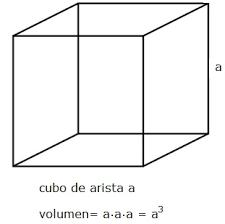cubos: (8, 1, 216, 174)
